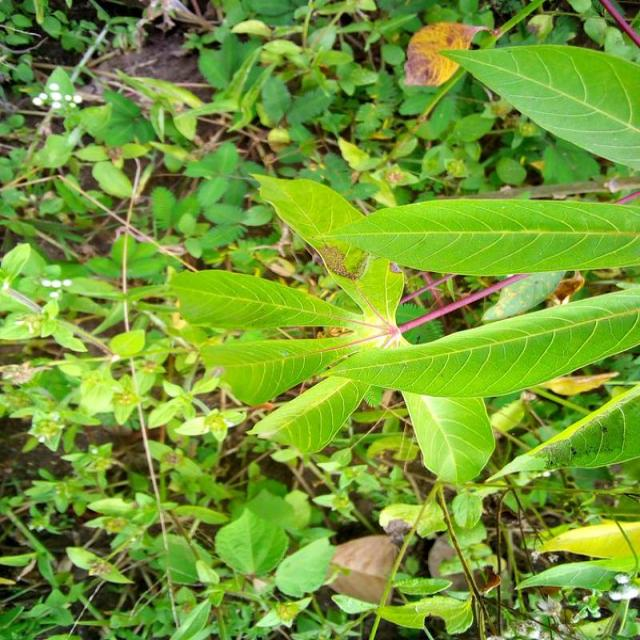cassava leaf: (167, 171, 638, 483), (326, 286, 638, 400), (437, 42, 639, 172), (323, 195, 639, 276)
